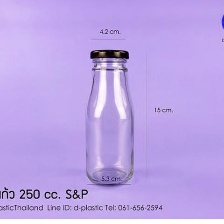bottle: (83, 46, 137, 185)
